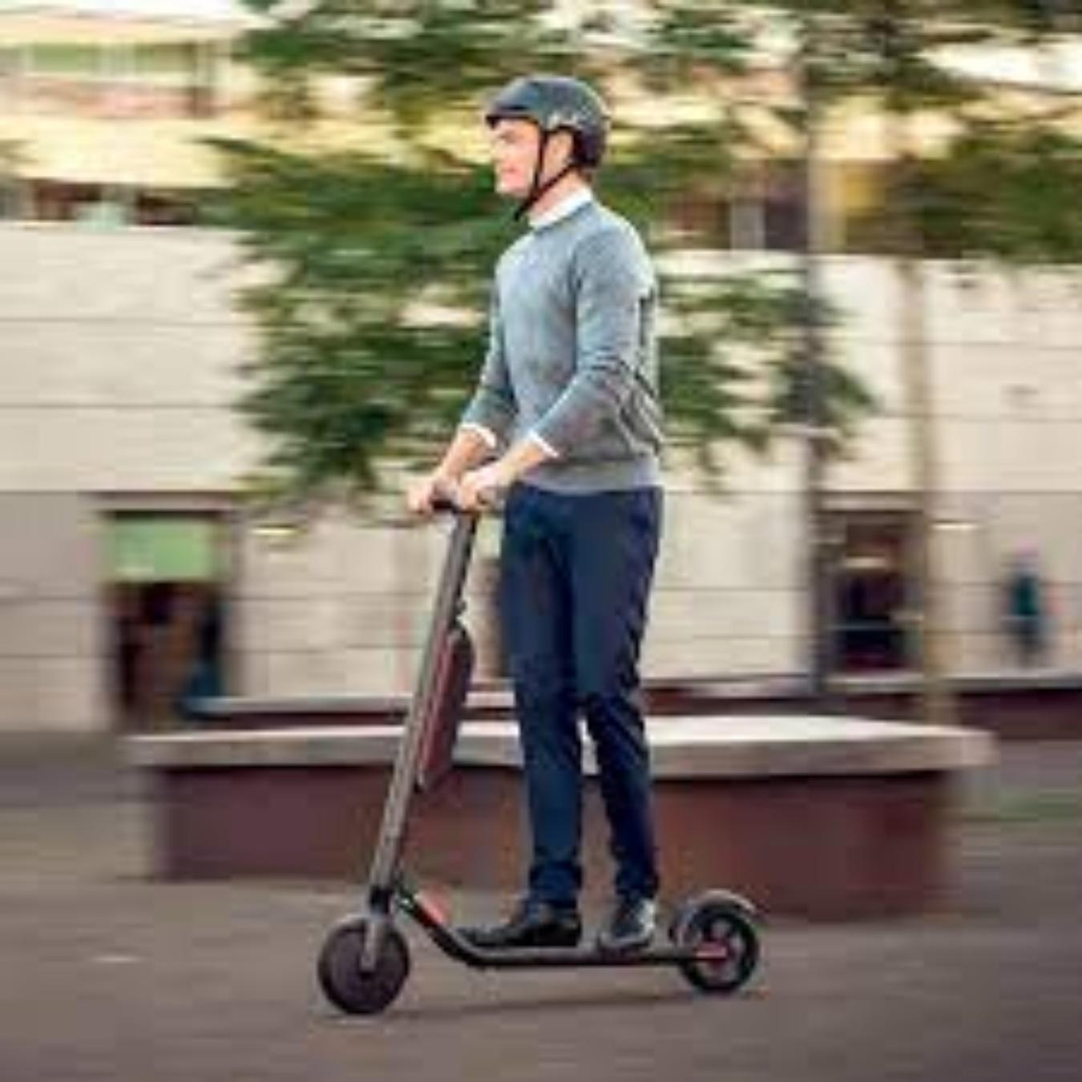helmet: (461, 53, 639, 206)
human: (420, 61, 676, 959)
kickboard: (317, 894, 765, 1022)
